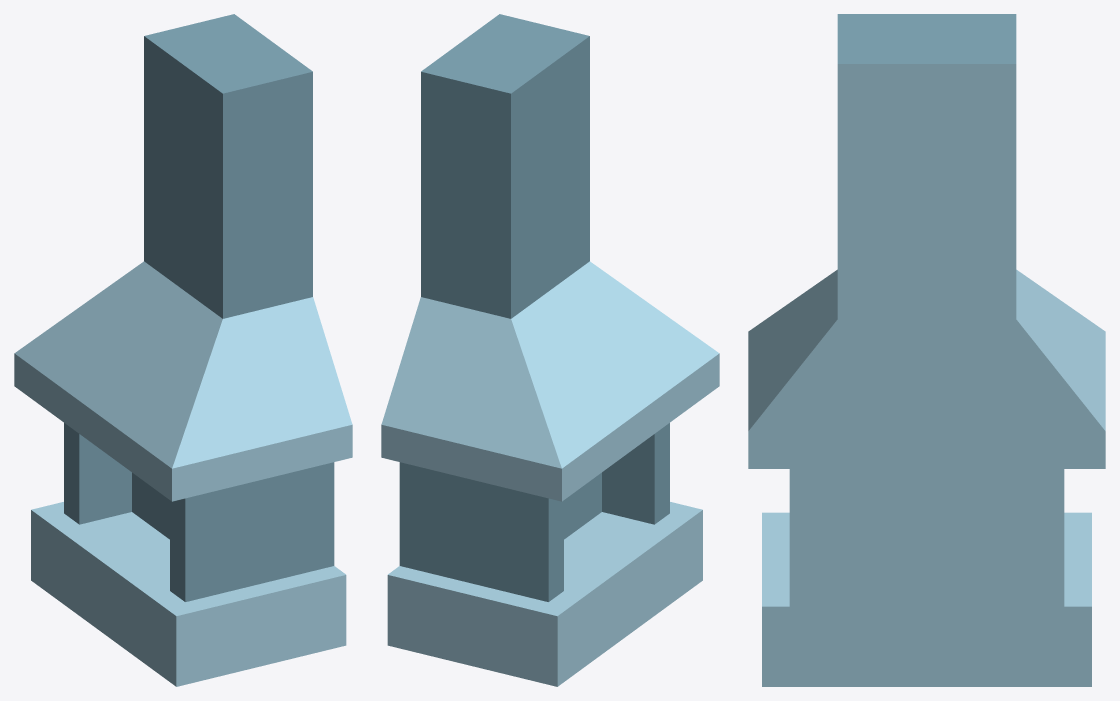
File: chimneyBase.fbx
3 renders of one model, left to right at view 1: azimuth 30°, elevation 25°; view 2: azimuth 150°, elevation 25°; view 3: azimuth 270°, elevation 25°, orthographic. The views are drawn at different scales.
Visible parts, largest first — view 1: chimneyBase; view 2: chimneyBase; view 3: chimneyBase.
Boxes of the visible parts, x1,y1,x2,y2 form: chimneyBase: (14,14,352,686); chimneyBase: (381,14,719,686); chimneyBase: (748,14,1105,686).
Size of the model in its own units: 3.44 by 10 by 5.2.
